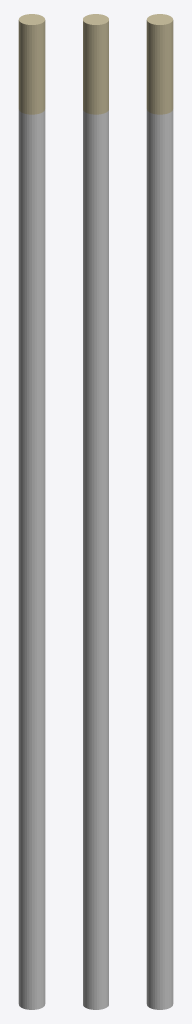
The model's file is A08E5Afixed.glb.
3 views of the same model, side by side, from view 1: azimuth 90°, elevation 25°; view 2: azimuth 150°, elevation 25°; view 3: azimuth 270°, elevation 25° (orthographic).
Visible parts, largest first — view 1: Long_Electrode_Body, Long_Electrode_Tip; view 2: Long_Electrode_Body, Long_Electrode_Tip; view 3: Long_Electrode_Body, Long_Electrode_Tip.
Boxes of the visible parts, <box> form: Long_Electrode_Body: <box>18,109,45,1009</box>; Long_Electrode_Tip: <box>18,14,45,114</box>; Long_Electrode_Body: <box>83,110,108,1009</box>; Long_Electrode_Tip: <box>83,14,108,114</box>; Long_Electrode_Body: <box>146,109,173,1009</box>; Long_Electrode_Tip: <box>146,14,173,114</box>.
Size of the model in its own units: 0.4 by 16.5 by 0.4.
